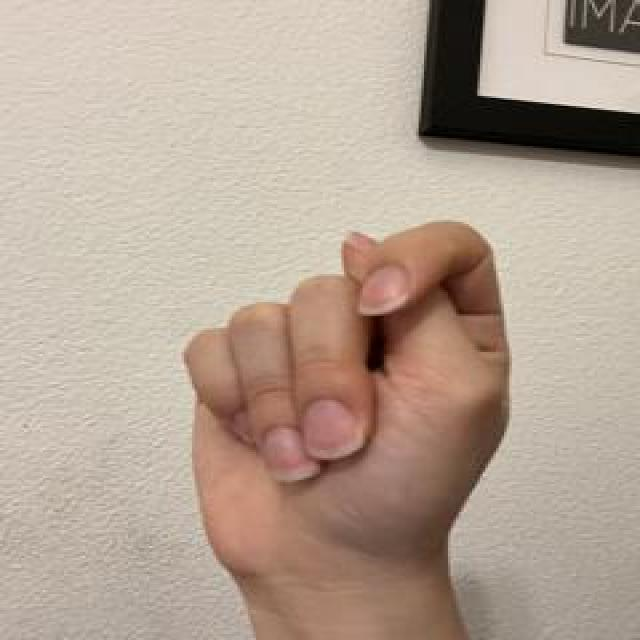T: (172, 214, 521, 586)
